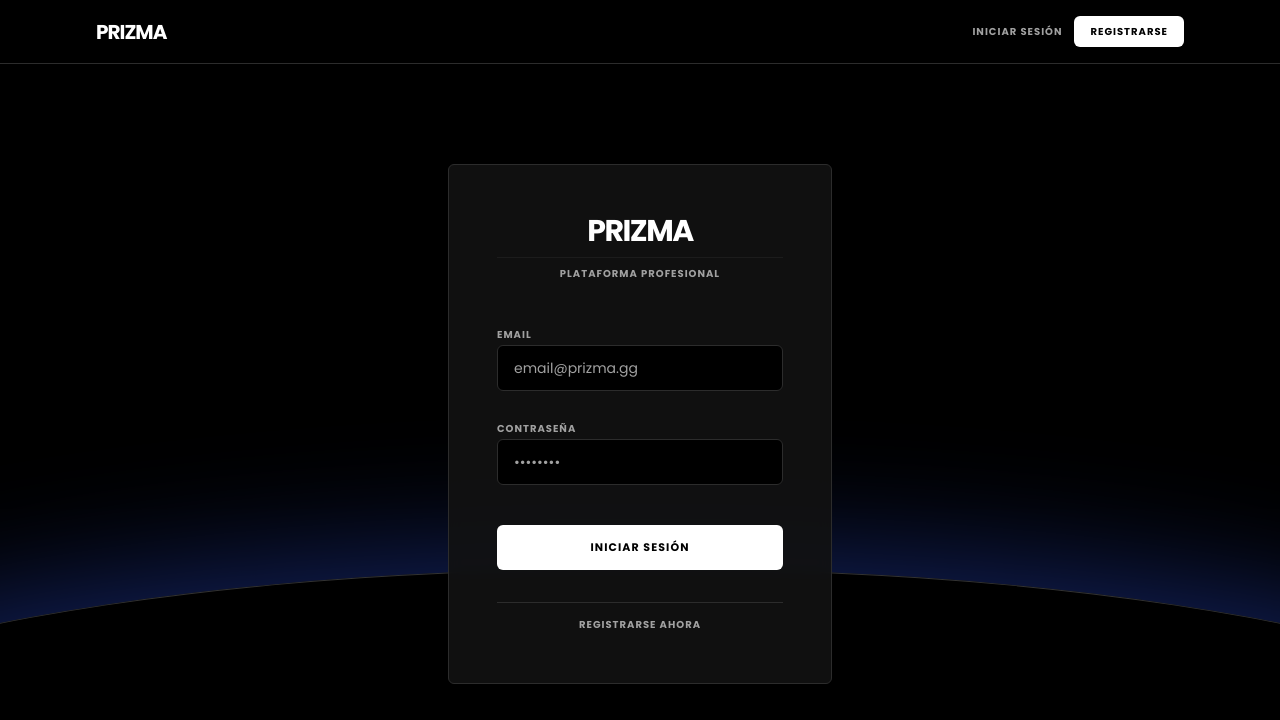
Test: Auth Flow › debería mostrar error con credenciales incorrectas
Type "wrong@email.com" into the field with placeholder "email@prizma.gg". click: (640, 368)
box: top-left (497, 345), bottom-right (783, 391)
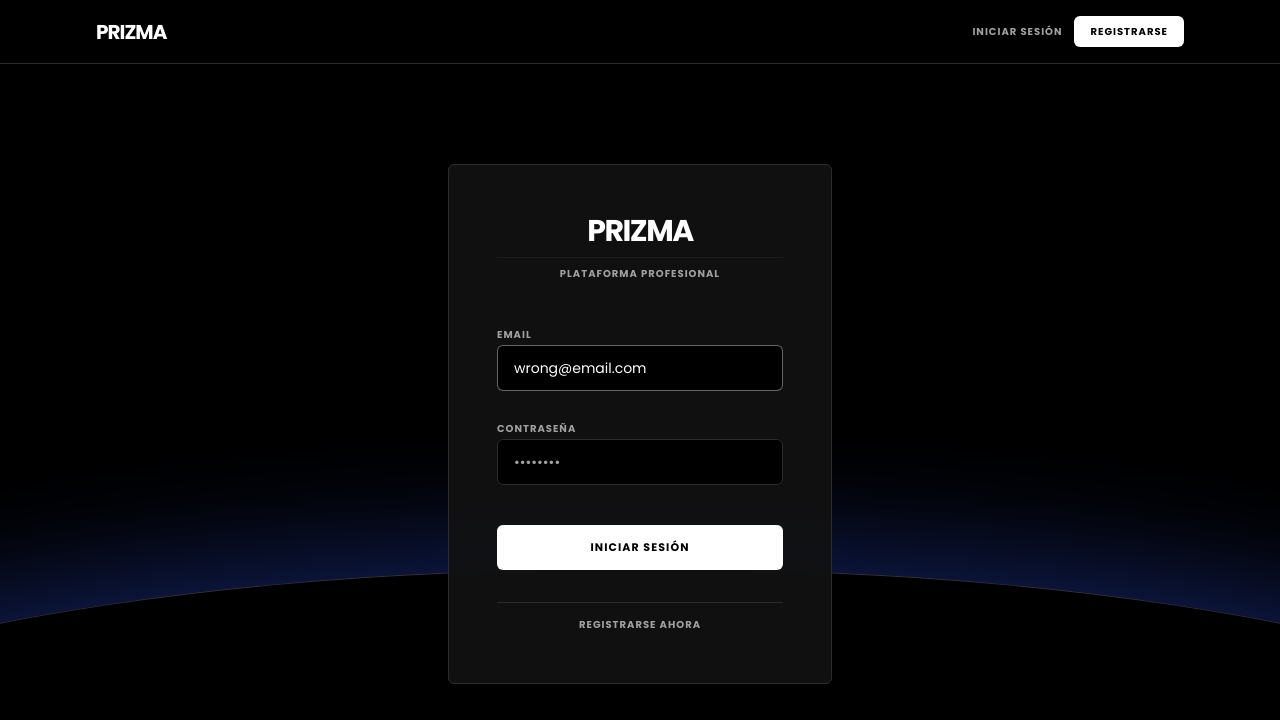
Type "wrongpassword" into the password field with placeholder "••••••••". click: (640, 462)
box: top-left (497, 439), bottom-right (783, 485)
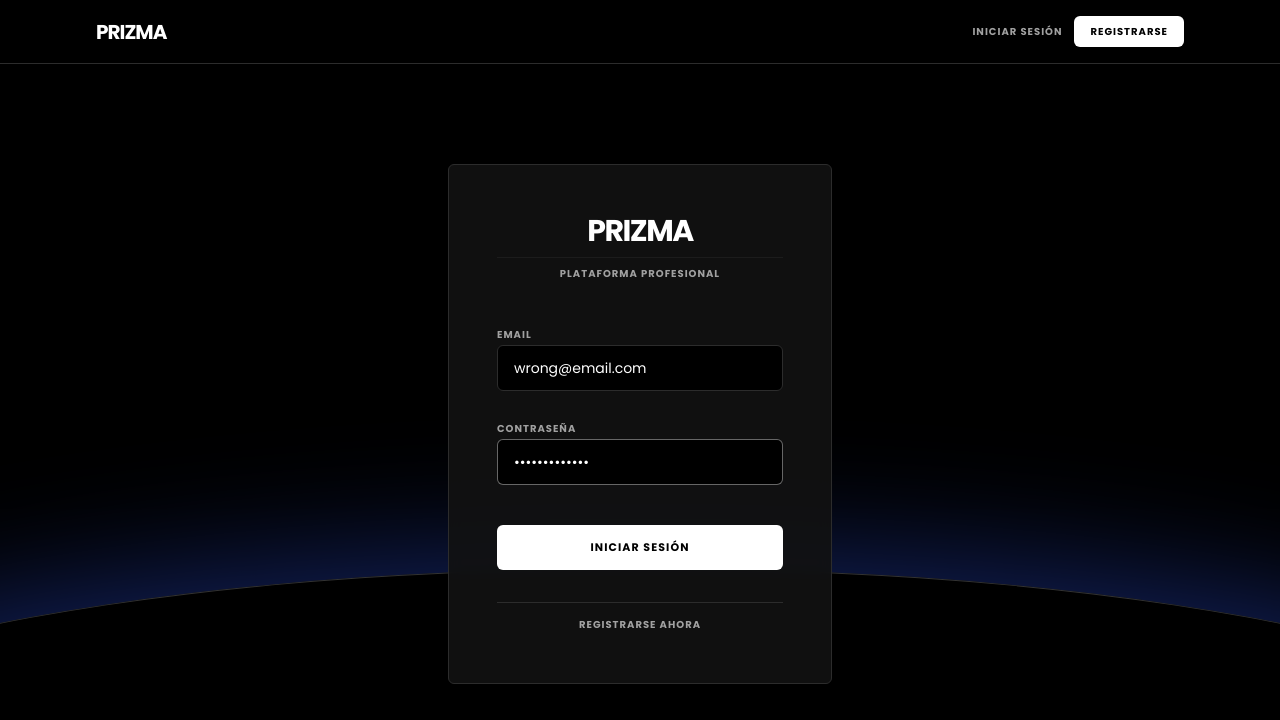
Click the submit button. click: (640, 548)
box: top-left (497, 525), bottom-right (783, 570)
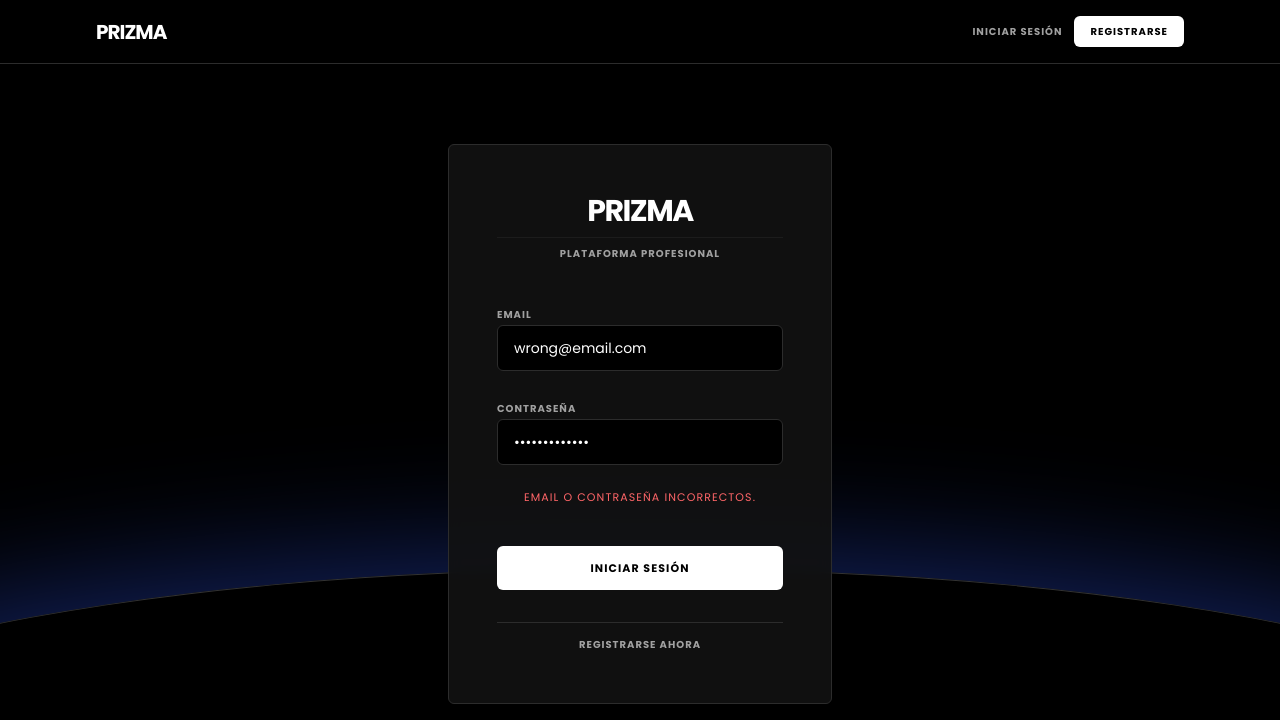
Expected: the text "incorrectos" is shown
